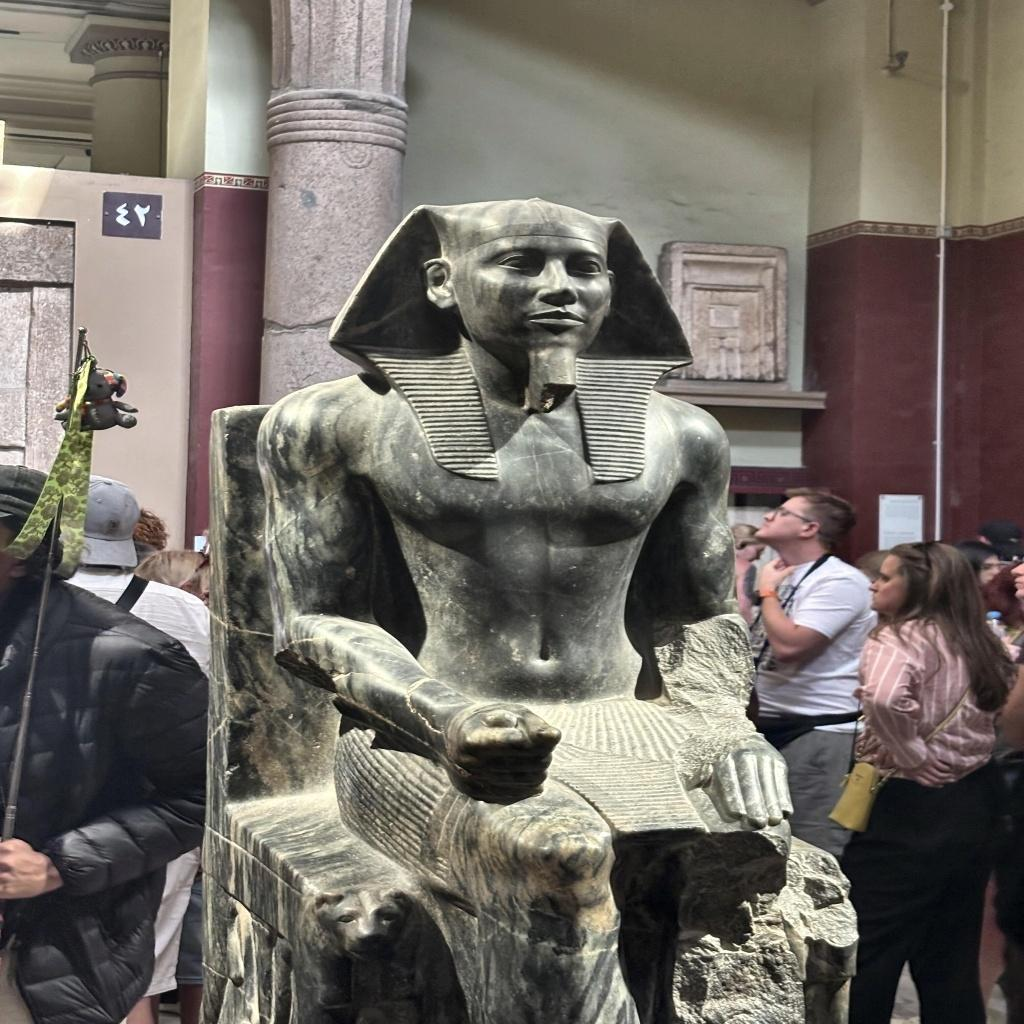Statue of Khafre: (254, 198, 830, 1016)
